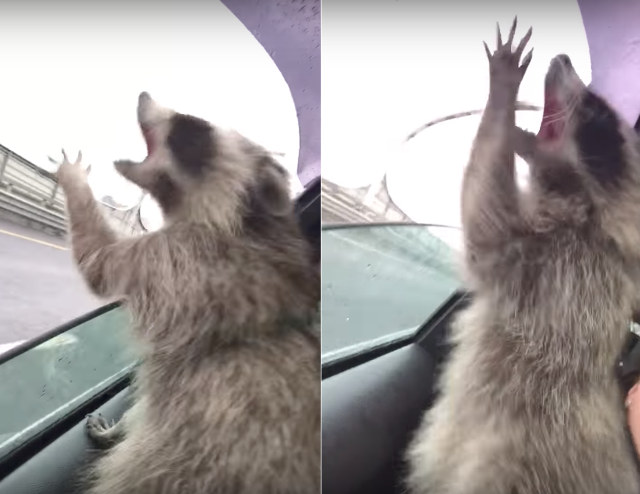raccoon: (47, 92, 320, 494), (416, 16, 640, 480)
